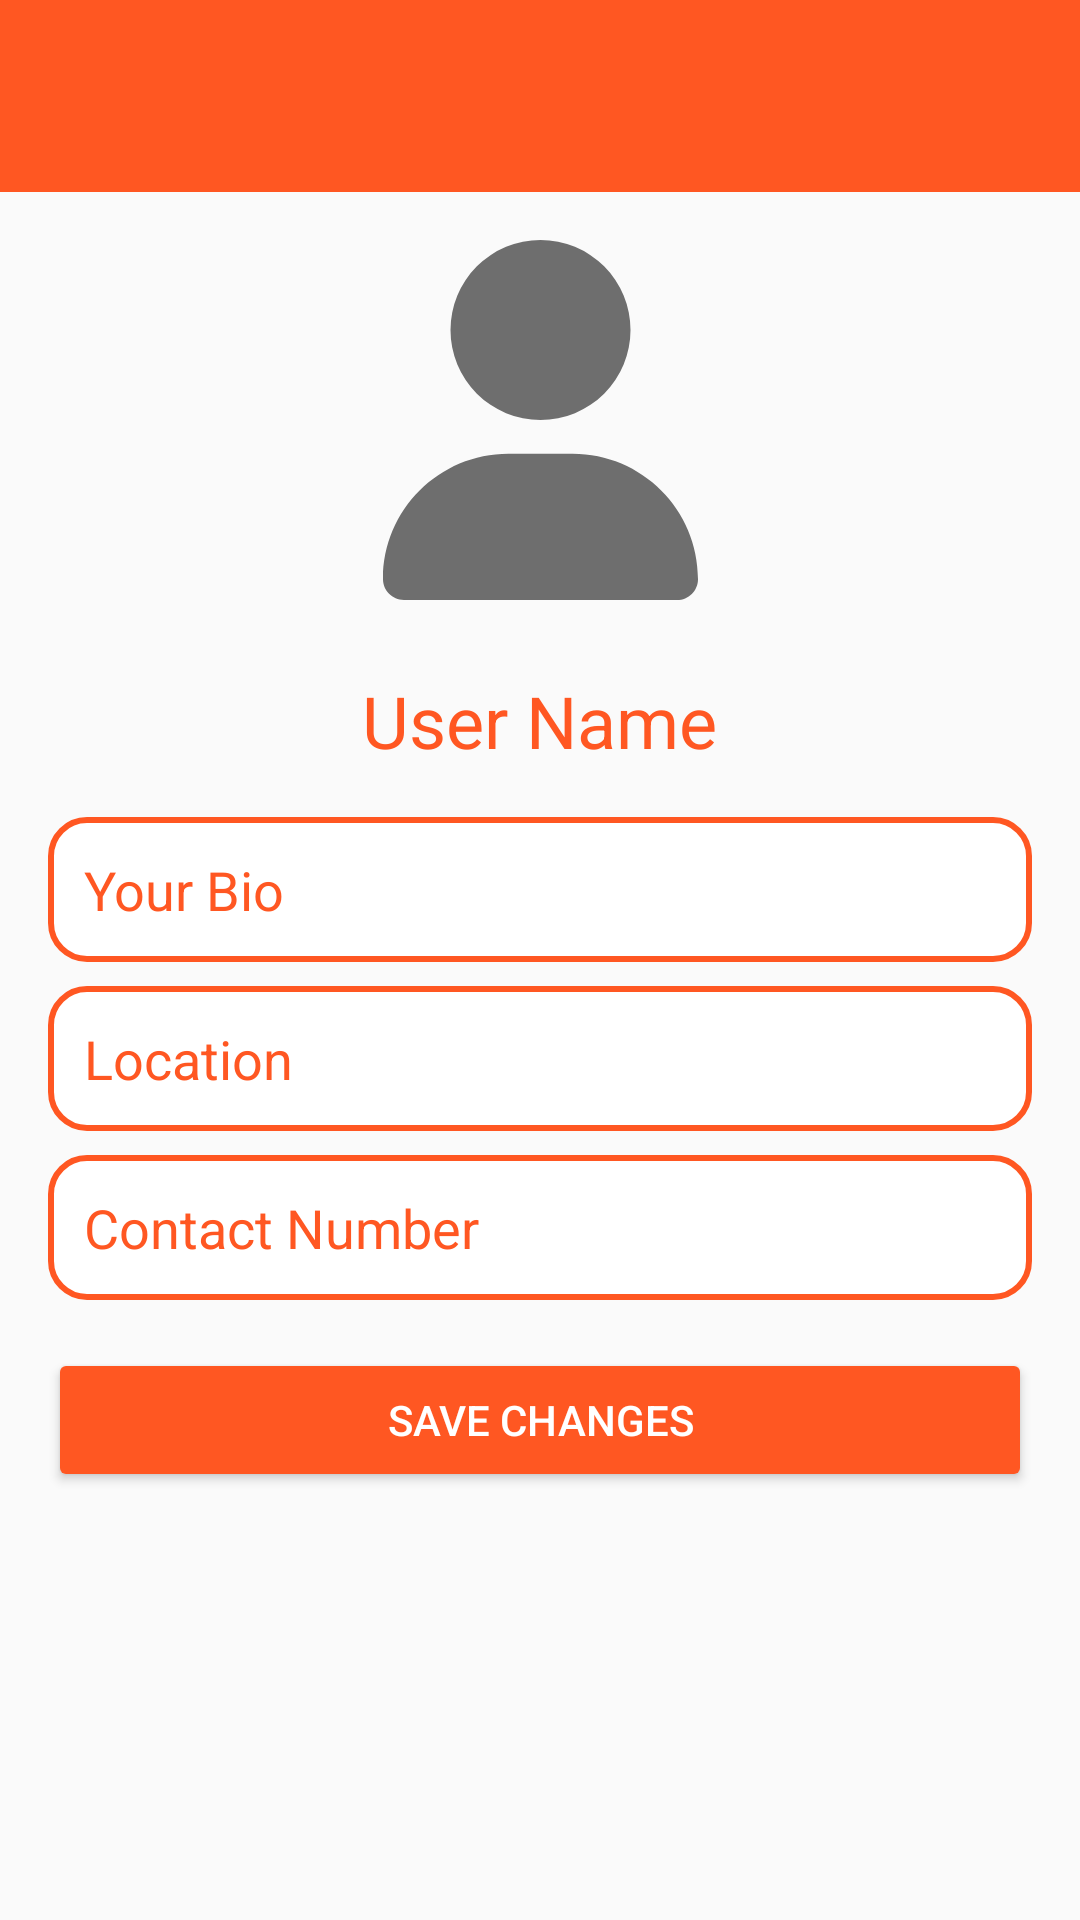

Named icons in this screenshot (1080 × 1920) and their centers, (x=x, y=y):
User Profile Picture: (x=540, y=420)
